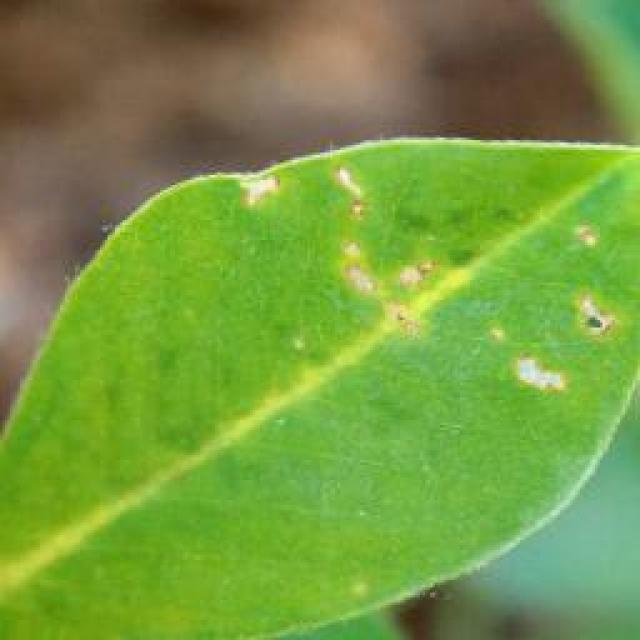Yellow_and_black_sigatoka: (10, 134, 640, 640)
